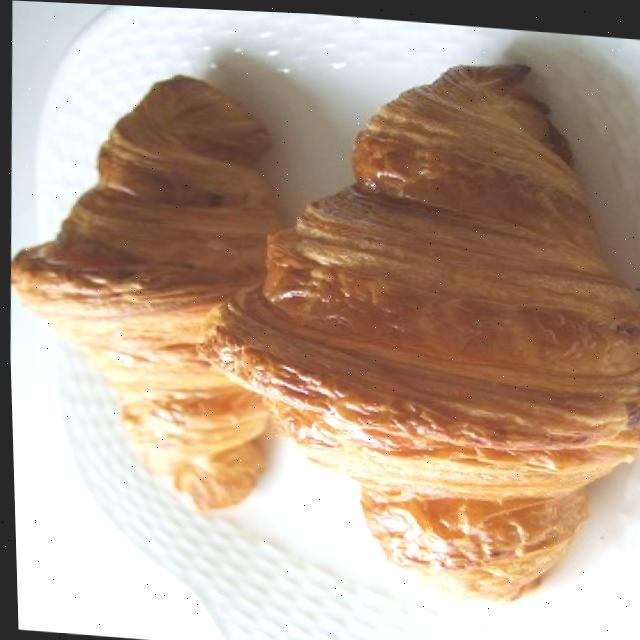面包点心: (197, 35, 640, 611)
